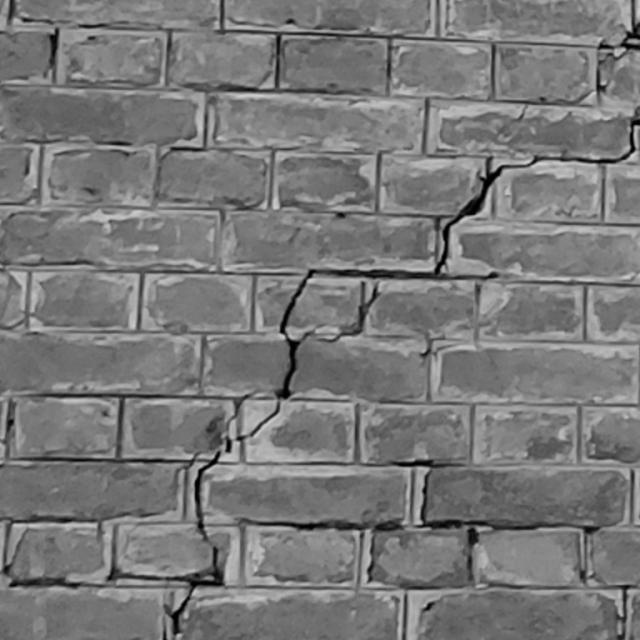crack: (170, 116, 639, 640), (516, 22, 640, 121)
